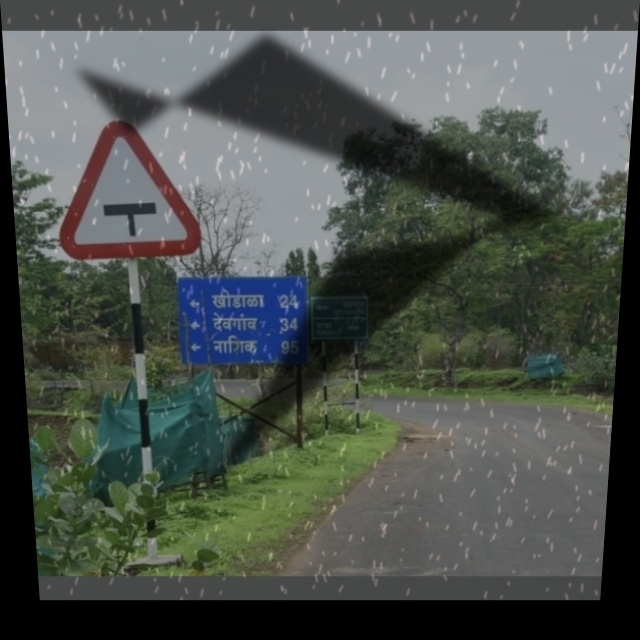T_Intersection: (54, 111, 209, 266)
